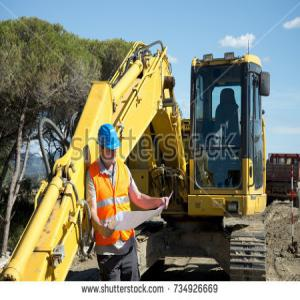blue: (98, 123, 120, 167)
